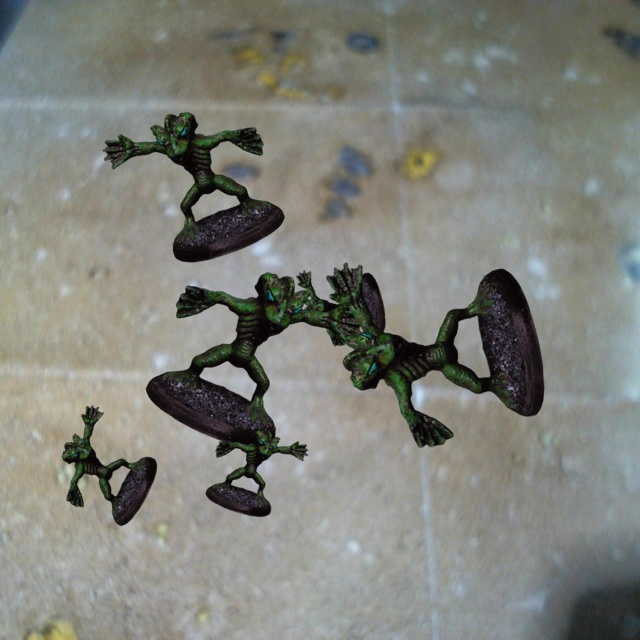pieza_juego: (326, 262, 543, 447), (146, 272, 364, 448), (103, 112, 284, 262), (62, 405, 156, 525), (205, 430, 307, 516), (296, 270, 385, 345)
